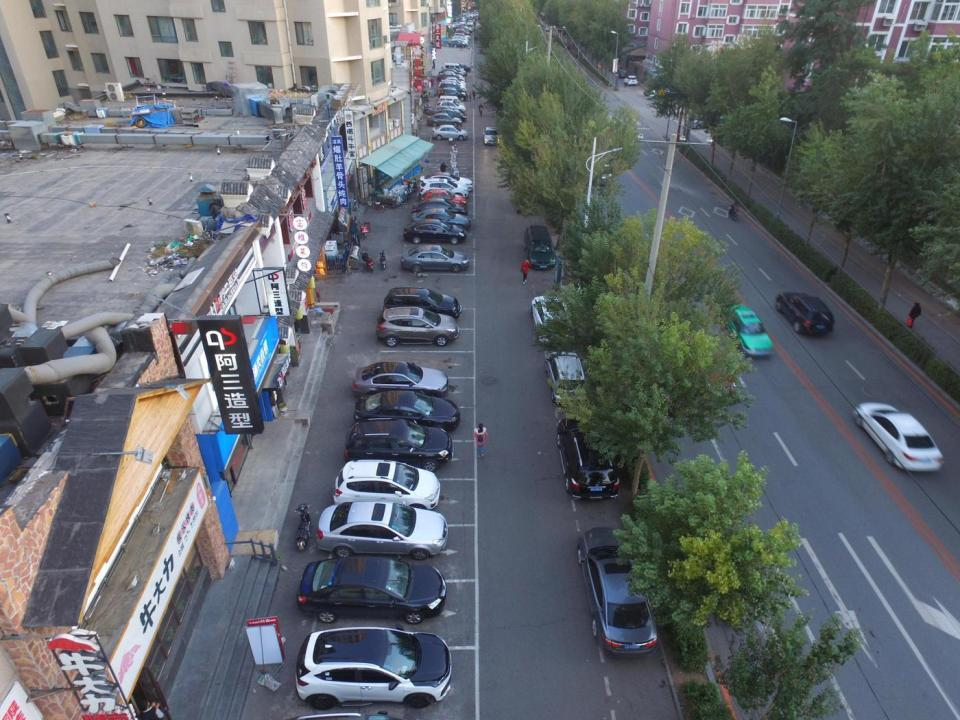car: (295, 626, 457, 710), (576, 527, 665, 658), (298, 557, 447, 624), (314, 505, 450, 562), (855, 398, 945, 479), (330, 457, 441, 516), (556, 413, 623, 504), (342, 419, 455, 469), (352, 391, 460, 431), (351, 360, 451, 398), (718, 299, 775, 359), (376, 306, 460, 346), (775, 286, 834, 336), (382, 286, 459, 322), (542, 349, 589, 405), (531, 294, 577, 346), (401, 244, 471, 274), (402, 216, 465, 244), (523, 224, 556, 270), (581, 146, 616, 188), (412, 197, 468, 222), (409, 208, 471, 230), (418, 172, 473, 193), (420, 189, 468, 211), (419, 178, 468, 198), (688, 110, 725, 130), (431, 124, 469, 141), (426, 112, 463, 129), (648, 89, 684, 104), (428, 106, 466, 120), (644, 85, 677, 99), (432, 109, 466, 122), (434, 101, 466, 113), (482, 126, 501, 146), (440, 88, 468, 101), (439, 82, 465, 96), (440, 79, 467, 92), (437, 71, 463, 83), (438, 73, 465, 84), (442, 67, 466, 79), (440, 77, 465, 87), (440, 69, 464, 79), (450, 62, 470, 72), (626, 75, 638, 86), (448, 40, 466, 47), (608, 62, 621, 71), (616, 68, 627, 78), (544, 26, 552, 32), (467, 19, 472, 26), (460, 20, 466, 25)
van: (439, 94, 465, 109), (444, 62, 464, 73)
